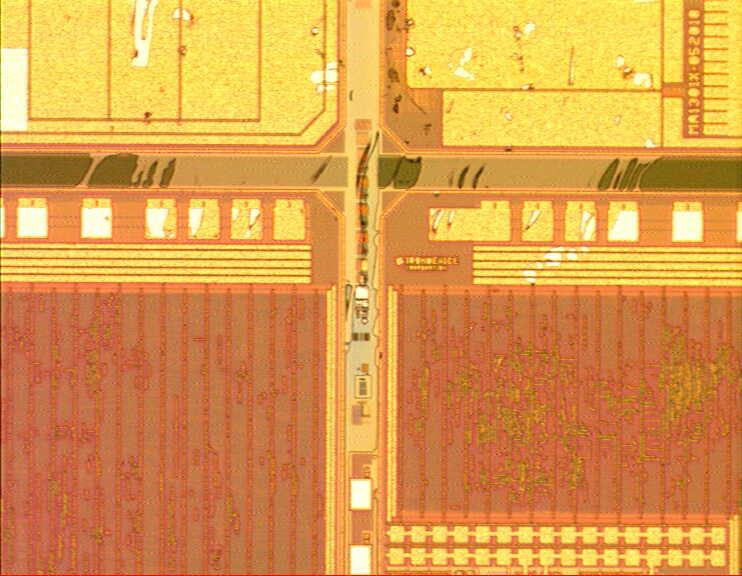PO CONTAMINATION: (104, 1, 660, 438)
